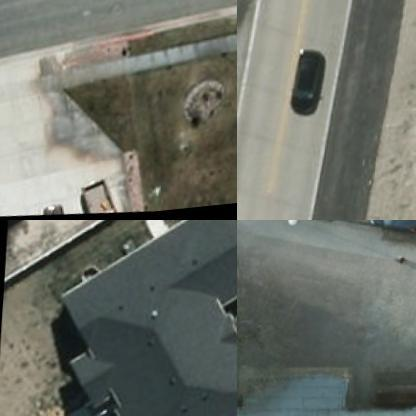car: (288, 51, 326, 118), (367, 220, 415, 252), (36, 206, 68, 218), (286, 220, 336, 227)
pickup: (74, 178, 134, 220)
